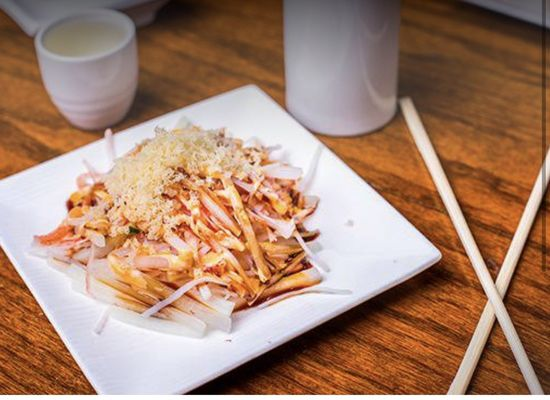pizza: (282, 1, 401, 139), (33, 8, 140, 132)
